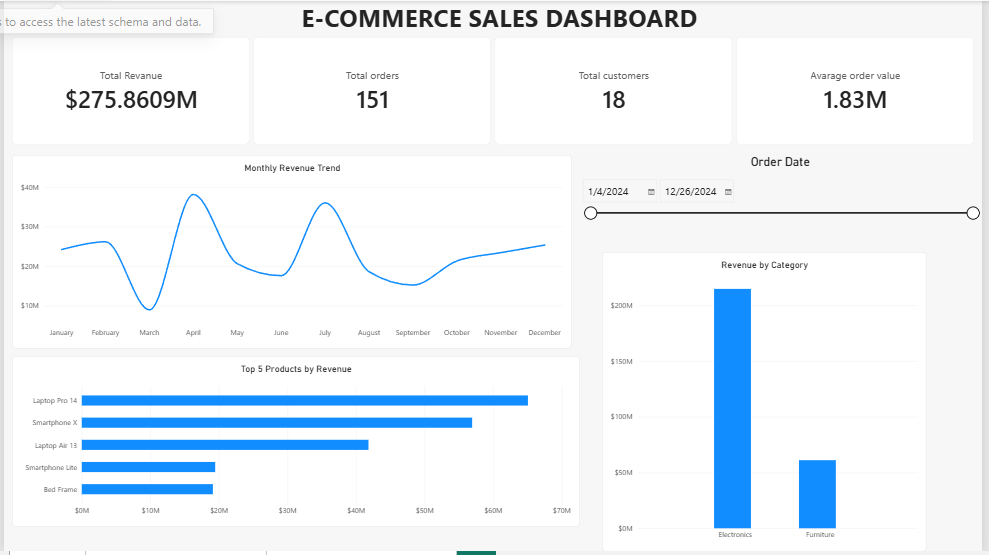

Layout of this report page (visuals, bound fields, positions):
{"tool":"powerbi","page":{"name":"Page 1","canvas":[1920,1080],"ordinal":0},"visuals":[{"type":"cardVisual","fields":{"Data":["ecommerce_powerbi_project orders.Revanue","ecommerce_powerbi_project orders.Total orders","ecommerce_powerbi_project orders.Total customers","ecommerce_powerbi_project orders.Avarage order value"]},"box":[15.1,71.3,1890,211.7],"z":0},{"type":"lineChart","title":"Monthly Revenue Trend","fields":{"Category":["ecommerce_powerbi_project orders.order_date.Variation.Date Hierarchy.Month"],"Y":["ecommerce_powerbi_project orders.Total Revanue"]},"box":[15.1,302.4,1099.4,380.2],"z":1000},{"type":"clusteredColumnChart","title":"Revenue by Category","fields":{"Category":["ecommerce_powerbi_project products.category"],"Y":["ecommerce_powerbi_project orders.Total Revanue"]},"box":[1175,492.5,637.2,587.5],"z":2000},{"type":"clusteredBarChart","title":"Top 5 Products by Revenue","fields":{"Category":["ecommerce_powerbi_project products.product_name"],"Y":["ecommerce_powerbi_project orders.Total Revanue"]},"box":[15.1,697.7,1114.6,334.8],"z":3000},{"type":"slicer","title":"Order Date","fields":{"Values":["ecommerce_powerbi_project orders.order_date"]},"box":[1129.7,302.4,790.6,164.2],"z":4000},{"type":"textbox","box":[99.4,0,1749.6,71.3],"z":5000}]}

Visuals, with their boxes on the page's 1920x1080 design canvas (x1, y1, x2, y2). These are canvas units, not pixel positions in the 989x555 screenshot, which may show the page scaled, cropped or inside an application window:
cardVisual - ecommerce_powerbi_project orders.Revanue x ecommerce_powerbi_project orders.Total orders: box=[15, 71, 1905, 283]
"Monthly Revenue Trend" lineChart: box=[15, 302, 1114, 683]
"Revenue by Category" clusteredColumnChart: box=[1175, 492, 1812, 1080]
"Top 5 Products by Revenue" clusteredBarChart: box=[15, 698, 1130, 1032]
"Order Date" slicer: box=[1130, 302, 1920, 467]
textbox: box=[99, 0, 1849, 71]
